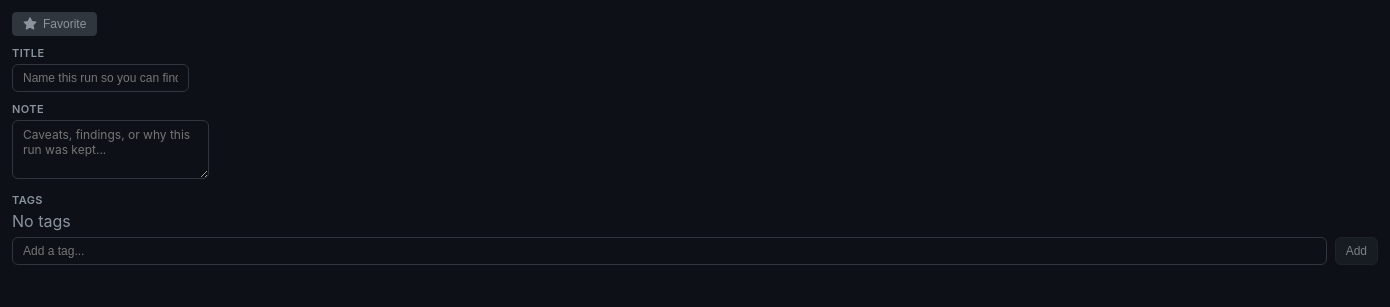
Test case: RunAnnotationEditor › surfaces a save failure instead of failing silently
What coordinates should you click on to do the following:
click the button with aria-label "mark as favorite"
I would click on:
 (55, 24)
Its box is [12,12,97,36].
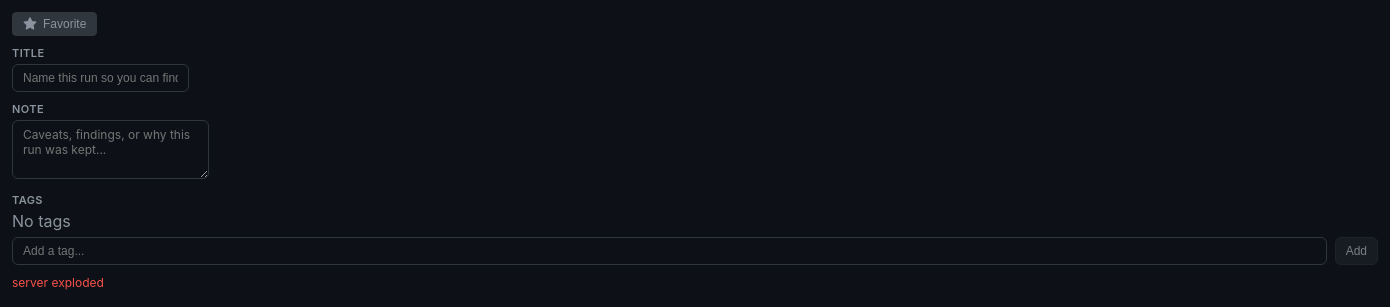
Expected: the text "server exploded" is shown, [12,275,104,290]
